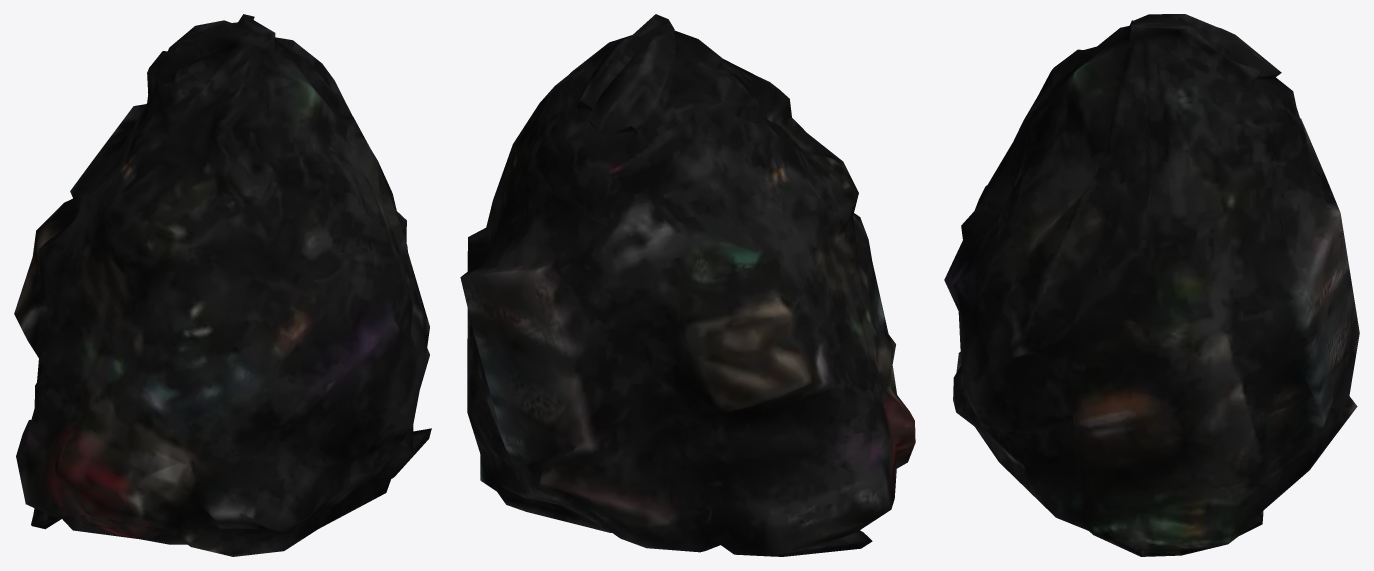
Rendered from trashbag.glb.
3 views of the same model, side by side, from view 1: azimuth 30°, elevation 25°; view 2: azimuth 150°, elevation 25°; view 3: azimuth 270°, elevation 25° (orthographic). The views are drawn at different scales.
Visible parts, largest first — view 1: trashbag; view 2: trashbag; view 3: trashbag.
Part boxes in pixels (x1=…): trashbag: x1=14, y1=14, x2=431, y2=556; trashbag: x1=460, y1=14, x2=915, y2=556; trashbag: x1=944, y1=14, x2=1359, y2=556.
Size of the model in its own units: 0.5231 by 0.5684 by 0.4629.
1 material, 1 textured.
